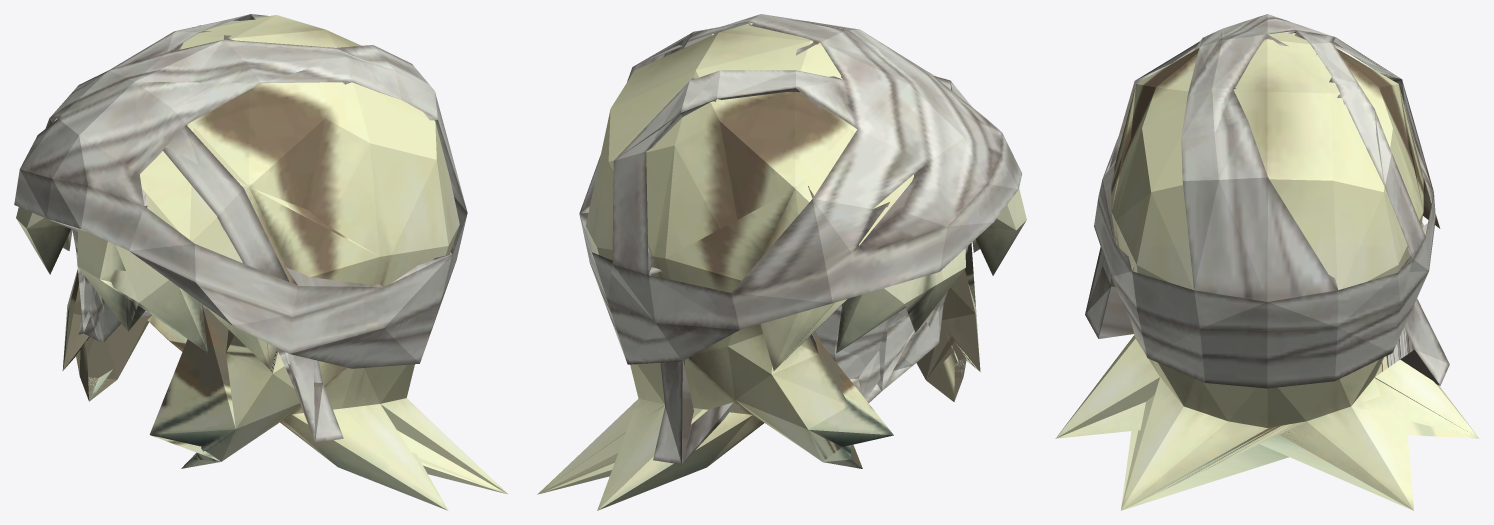
The model's file is Cat_mummyHead.obj.
3 views of the same model, side by side, from view 1: azimuth 30°, elevation 25°; view 2: azimuth 150°, elevation 25°; view 3: azimuth 270°, elevation 25° (orthographic). The views are drawn at different scales.
Parts seen in each view (by area): view 1: Cat_mummyHead_tri; view 2: Cat_mummyHead_tri; view 3: Cat_mummyHead_tri.
Boxes of the visible parts, bbox=[...] form: Cat_mummyHead_tri: bbox=[14, 14, 508, 510]; Cat_mummyHead_tri: bbox=[537, 14, 1026, 510]; Cat_mummyHead_tri: bbox=[1055, 14, 1479, 510].
Size of the model in its own units: 0.3101 by 0.3324 by 0.3276.
Materials: 1 (1 with a texture image).
